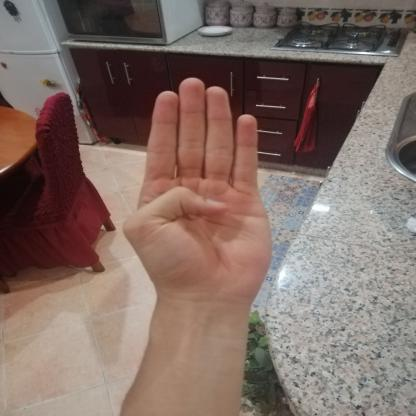KAAF: (102, 66, 302, 324)
